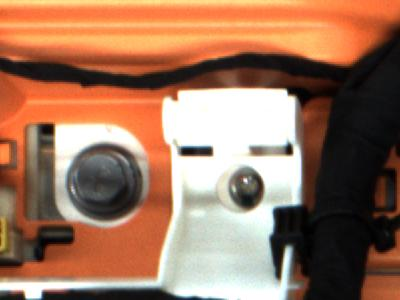nut_b: (61, 138, 144, 221)
screw_m: (217, 161, 269, 215)
